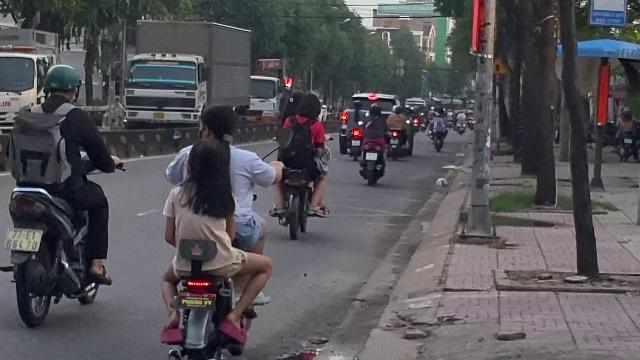helmet: (40, 63, 82, 105)
licenseplate: (5, 229, 40, 250)
motorcyclist: (152, 98, 280, 358), (0, 62, 120, 330), (266, 88, 332, 240)
nohelmet: (182, 139, 235, 200), (198, 103, 238, 139), (295, 92, 323, 121)
